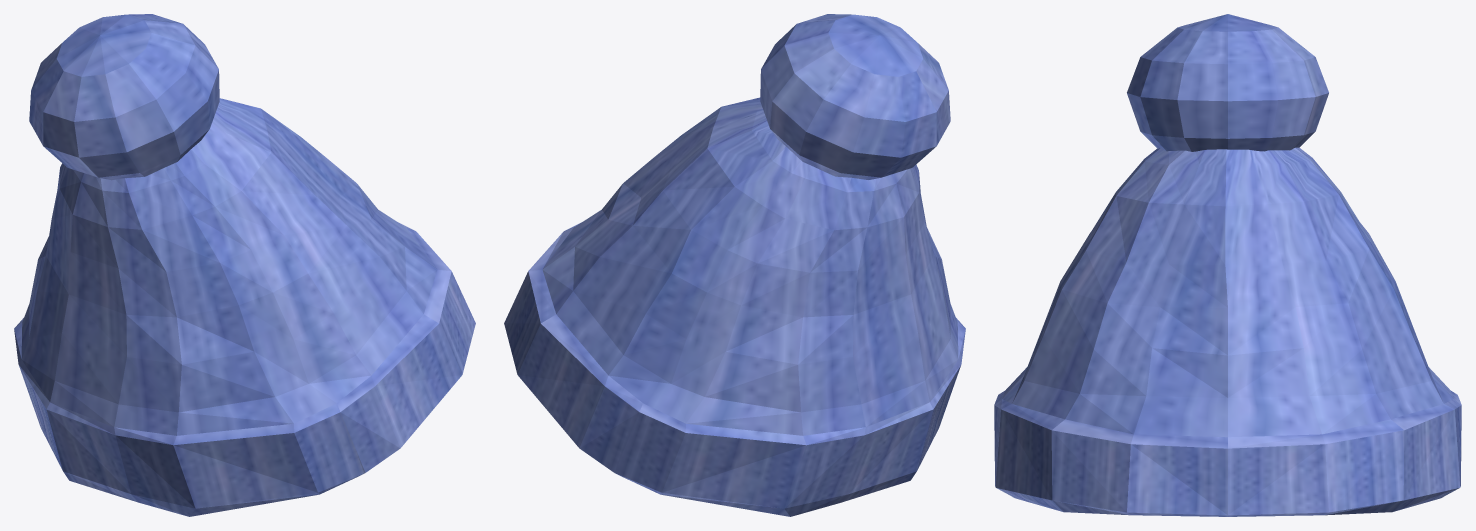
The model's file is BLUE POMPOM HAT.fbx.
3 views of the same model, side by side, from view 1: azimuth 30°, elevation 25°; view 2: azimuth 150°, elevation 25°; view 3: azimuth 270°, elevation 25° (orthographic).
Visible parts, largest first — view 1: BLUE_POMPOM_HAT; view 2: BLUE_POMPOM_HAT; view 3: BLUE_POMPOM_HAT.
Part boxes in pixels (x1,y1,x2,y2): BLUE_POMPOM_HAT: [14, 14, 475, 516]; BLUE_POMPOM_HAT: [504, 14, 965, 516]; BLUE_POMPOM_HAT: [994, 14, 1461, 516].
Bounding box in the file's own units: 30.52 × 33.2 × 31.29.
